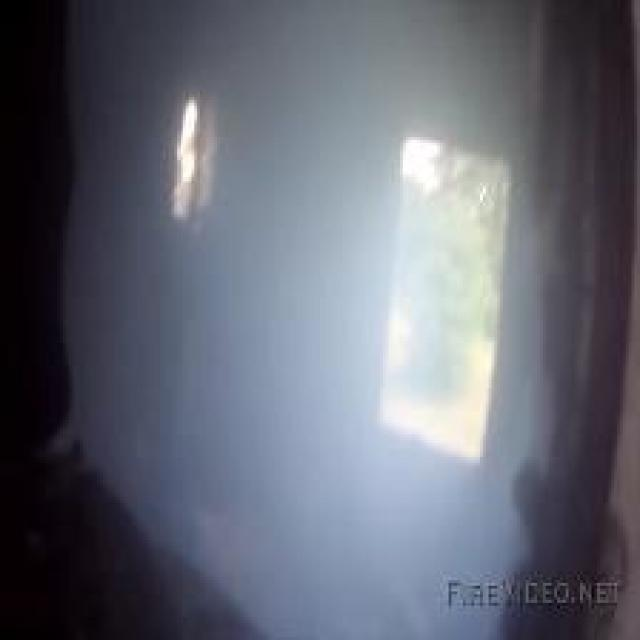other: (118, 66, 235, 238)
